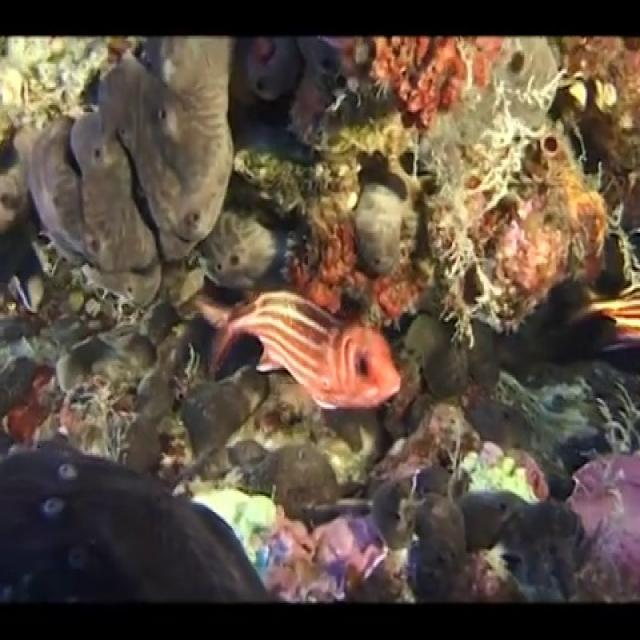Asker Baligi: (192, 284, 404, 412)
